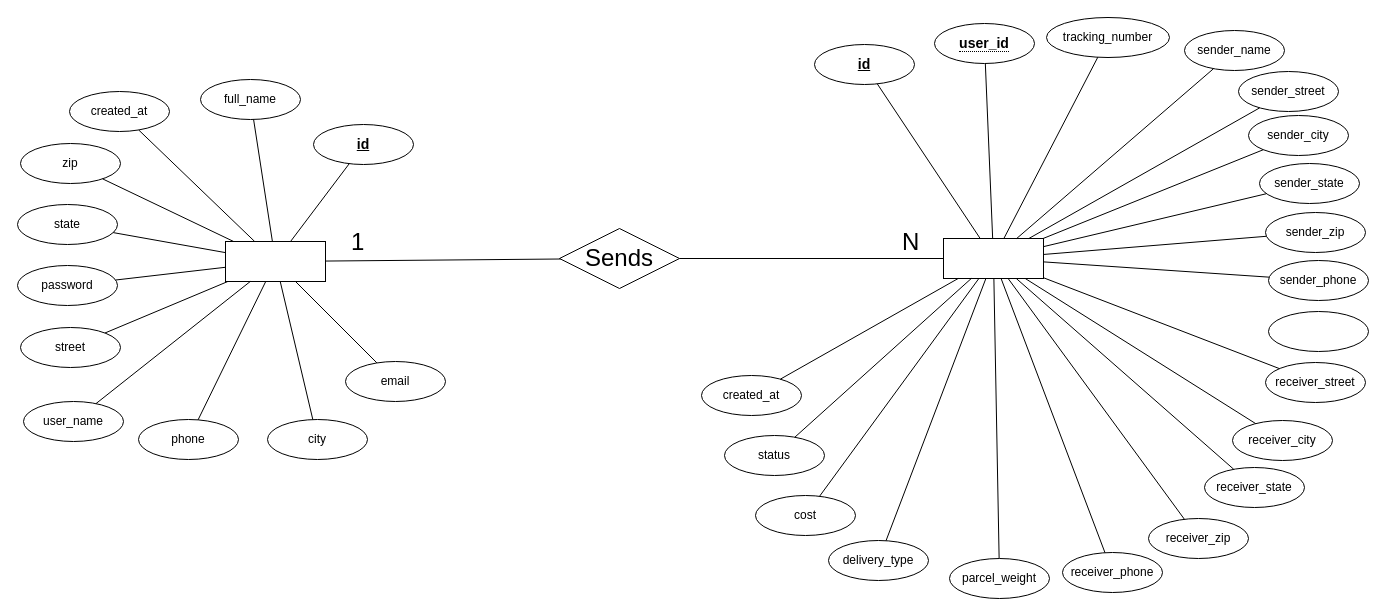
Image size: 1386x616. Some labels were removed from this diagram. Here are the shapes that lost their labels. From the top down, the centre of each, then its label:
(275,261): users
(993,258): parcels
(1318,331): receiver_name
